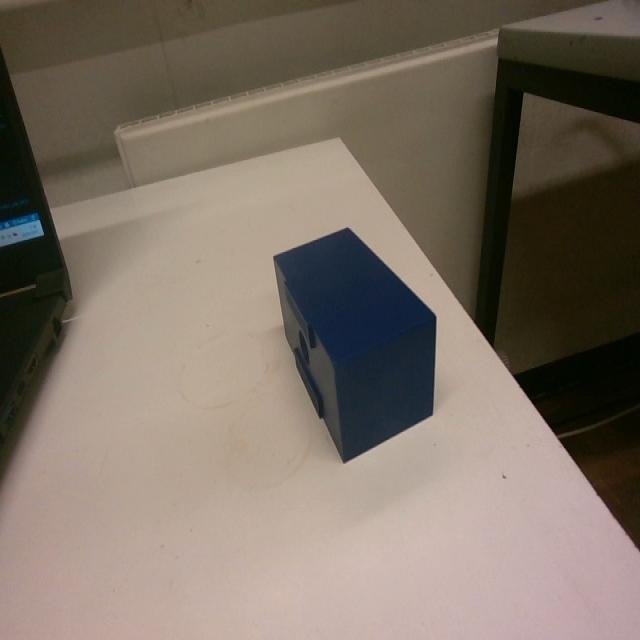Blue Cuboid: (270, 222, 438, 462)
